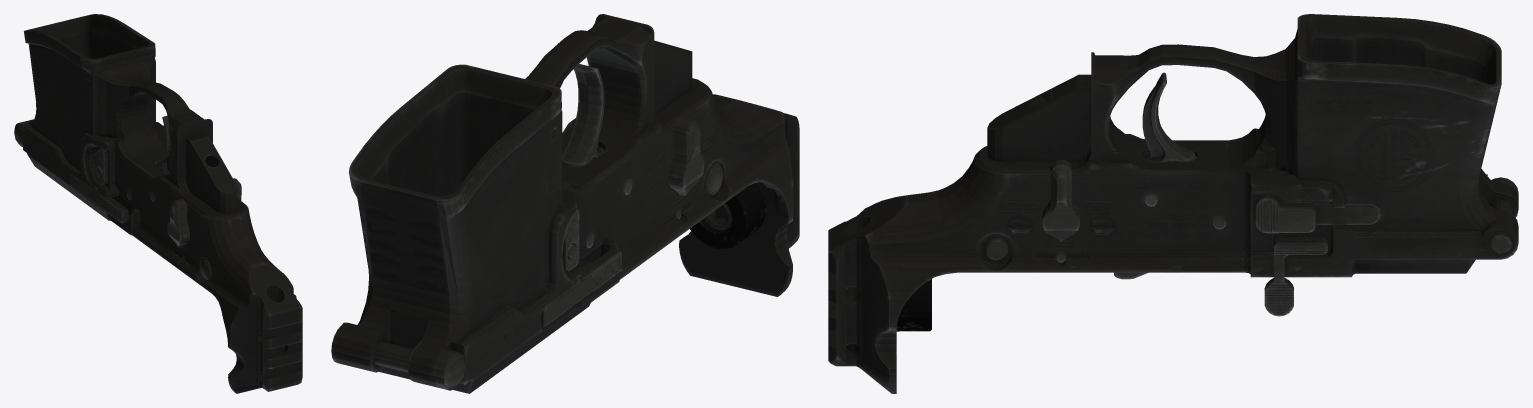
The picture shows the model from 3 angles, left to right: view 1: azimuth 30°, elevation 25°; view 2: azimuth 150°, elevation 25°; view 3: azimuth 270°, elevation 25°; orthographic projection. The views are drawn at different scales.
Parts seen in each view (by area): view 1: TW_58948c8e86f77409493f7266_PZ_Import; view 2: TW_58948c8e86f77409493f7266_PZ_Import; view 3: TW_58948c8e86f77409493f7266_PZ_Import.
Part boxes in pixels (x1,y1,x2,y2): TW_58948c8e86f77409493f7266_PZ_Import: (14, 14, 302, 393); TW_58948c8e86f77409493f7266_PZ_Import: (331, 14, 799, 393); TW_58948c8e86f77409493f7266_PZ_Import: (828, 14, 1518, 393).
Size of the model in its own units: 0.0241 by 0.1262 by 0.0679.
1 material, 1 textured.
